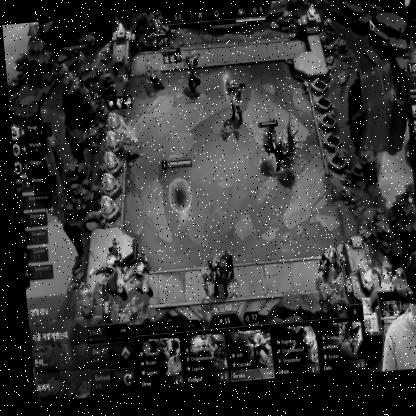streamer: (366, 255, 416, 378)
